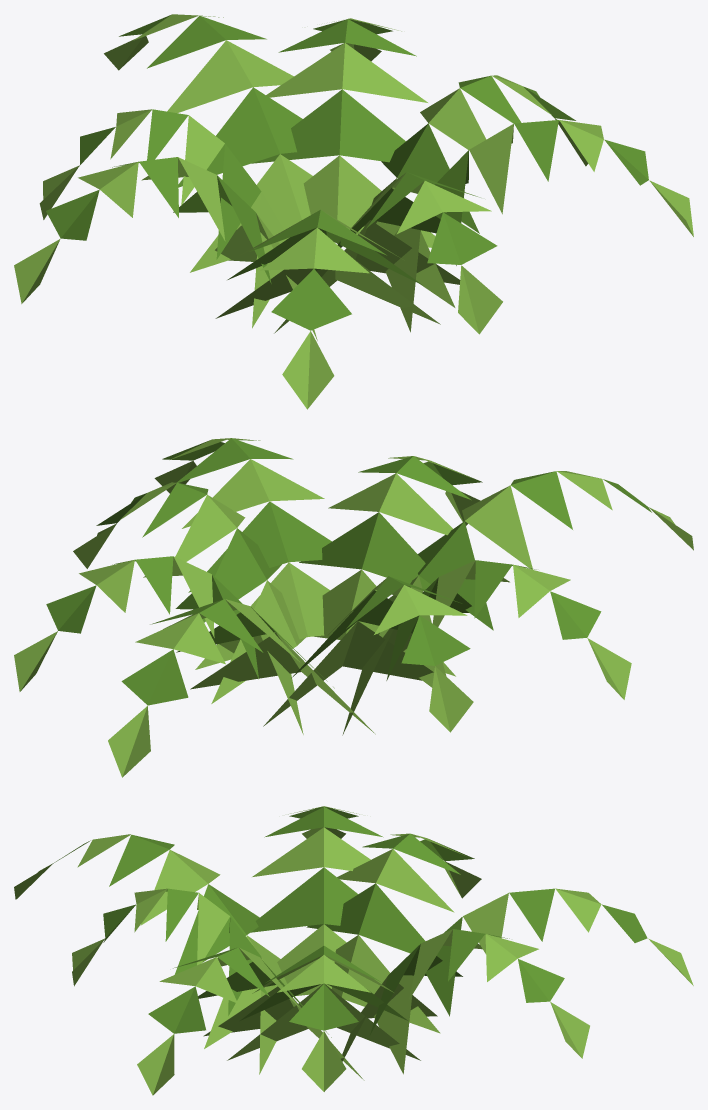
Rendered from fern.glb.
The picture shows the model from 3 angles, top to bottom: view 1: azimuth 30°, elevation 25°; view 2: azimuth 150°, elevation 25°; view 3: azimuth 270°, elevation 25°; orthographic projection. The views are drawn at different scales.
Parts seen in each view (by area): view 1: fern; view 2: fern; view 3: fern.
Boxes of the visible parts, x1,y1,x2,y2 form: fern: (14,14,693,409); fern: (14,438,693,777); fern: (14,806,693,1095).
Size of the model in its own units: 1.73 by 0.4805 by 2.04.
